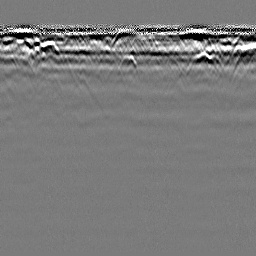cavity: (119, 52, 137, 73)
